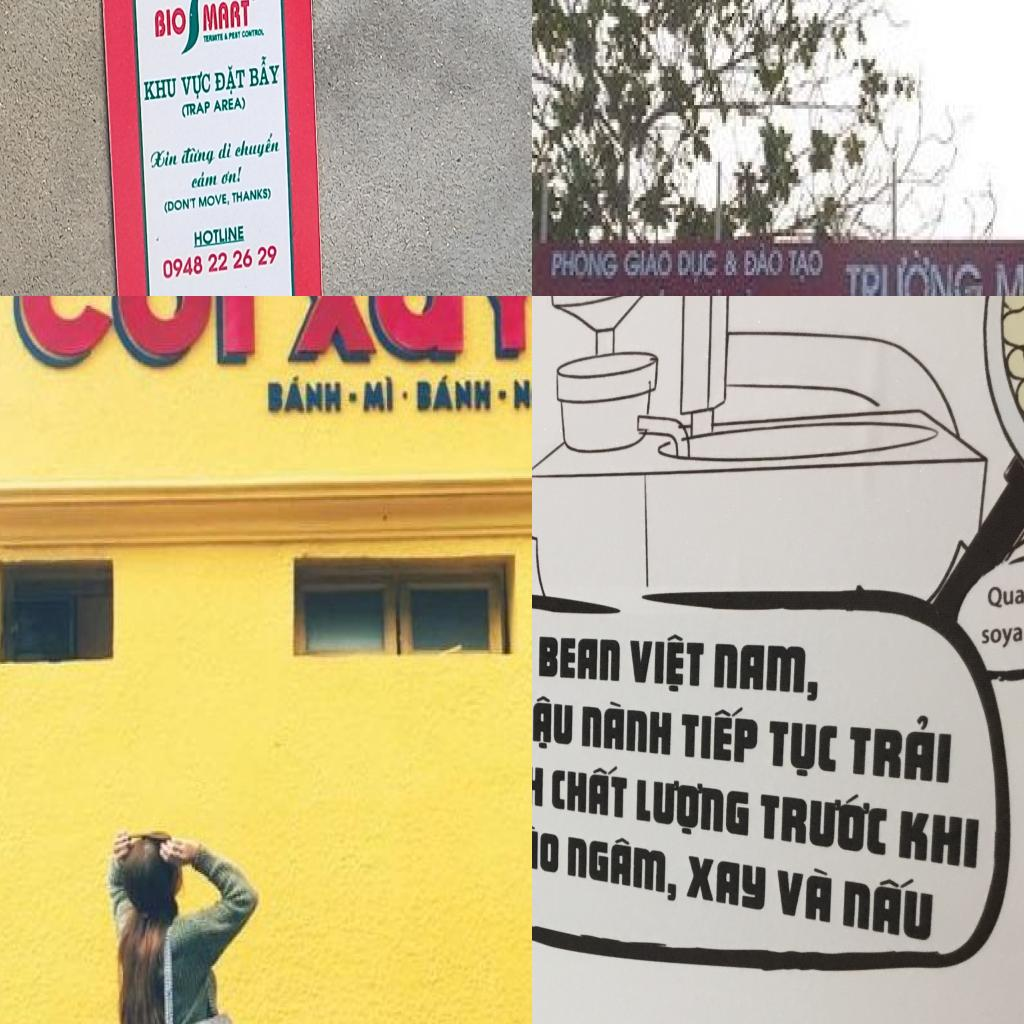text: (0, 296, 266, 377), (275, 296, 532, 369), (759, 786, 888, 857), (567, 830, 679, 904), (636, 774, 750, 844), (848, 713, 952, 784), (842, 247, 987, 296), (842, 868, 934, 942), (713, 644, 819, 704), (679, 702, 759, 769), (581, 700, 671, 756), (260, 366, 345, 424), (898, 810, 980, 870), (413, 360, 497, 418), (629, 631, 704, 695), (552, 759, 628, 821), (685, 856, 767, 912), (768, 720, 838, 783), (538, 637, 620, 682), (777, 862, 832, 926), (549, 243, 622, 286), (160, 242, 280, 267), (359, 366, 401, 424), (532, 693, 573, 752), (622, 244, 676, 282), (676, 247, 722, 289), (742, 240, 786, 282), (786, 247, 826, 289), (233, 128, 282, 162), (201, 0, 249, 33), (995, 243, 1024, 296), (192, 222, 246, 250), (532, 818, 558, 874), (152, 3, 188, 42), (246, 50, 280, 90), (211, 62, 246, 98), (140, 73, 178, 103), (178, 67, 211, 100), (986, 581, 1024, 609), (181, 141, 217, 170), (980, 626, 1023, 650), (148, 144, 181, 172), (231, 185, 273, 206), (722, 247, 742, 286), (189, 168, 219, 193), (163, 195, 197, 217), (197, 190, 230, 211), (212, 95, 248, 114), (180, 98, 210, 120), (220, 165, 243, 186), (686, 286, 732, 296), (216, 140, 235, 162), (242, 25, 266, 38), (202, 32, 224, 46), (730, 286, 760, 296), (228, 29, 242, 41)
